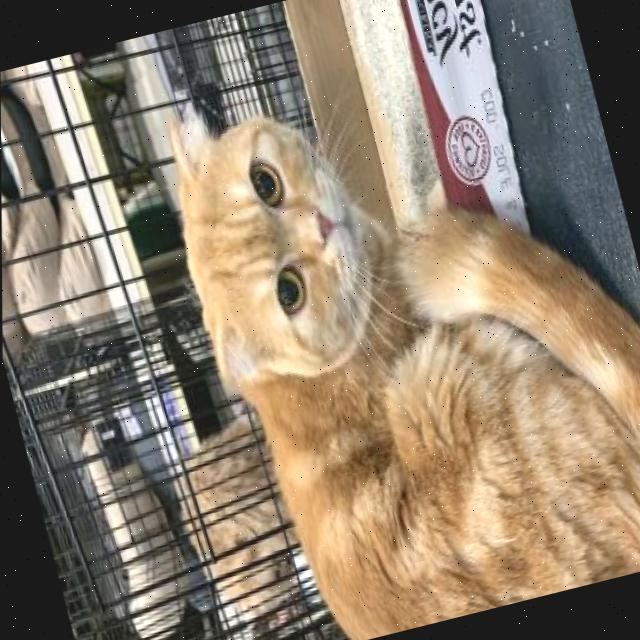Scottish Fold: (142, 8, 640, 640)
